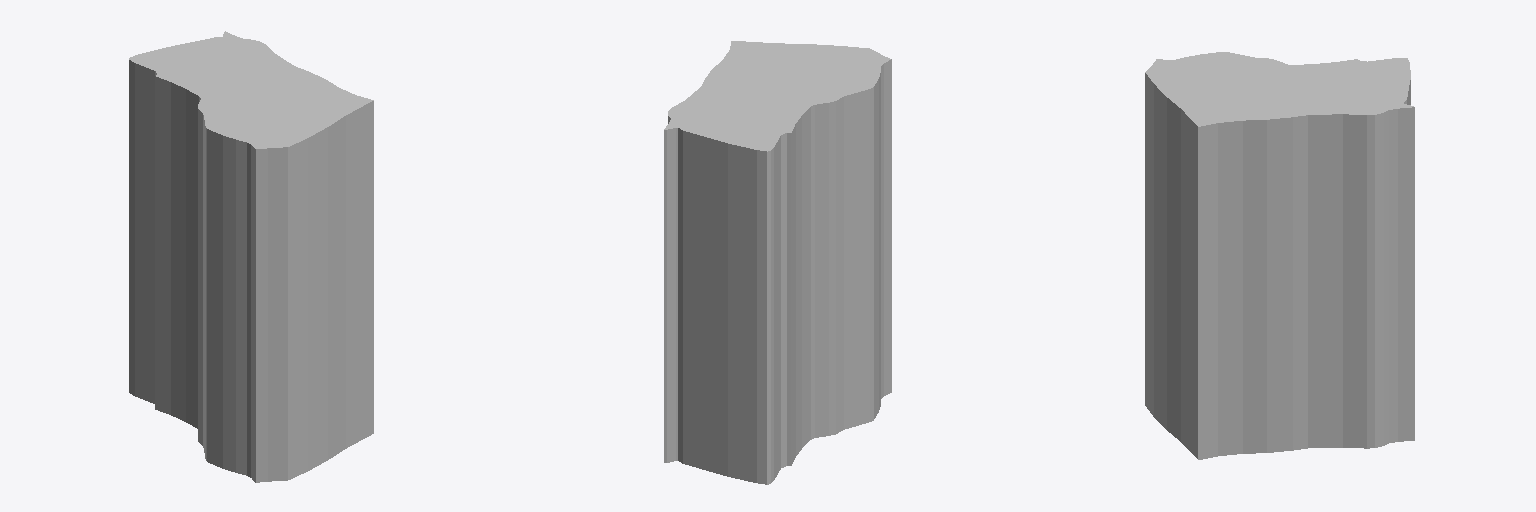
The picture shows the model from 3 angles: view 1: azimuth 30°, elevation 25°; view 2: azimuth 150°, elevation 25°; view 3: azimuth 270°, elevation 25°; orthographic projection.
Visible parts, largest first — view 1: GH.002_CUCurve.1861; view 2: GH.002_CUCurve.1861; view 3: GH.002_CUCurve.1861.
Part boxes in pixels (bbox=[...]): GH.002_CUCurve.1861: bbox=[129, 31, 373, 482]; GH.002_CUCurve.1861: bbox=[664, 41, 891, 484]; GH.002_CUCurve.1861: bbox=[1145, 52, 1414, 459].
Bounding box in the file's own units: 0.0242 × 0.05 × 0.0366.